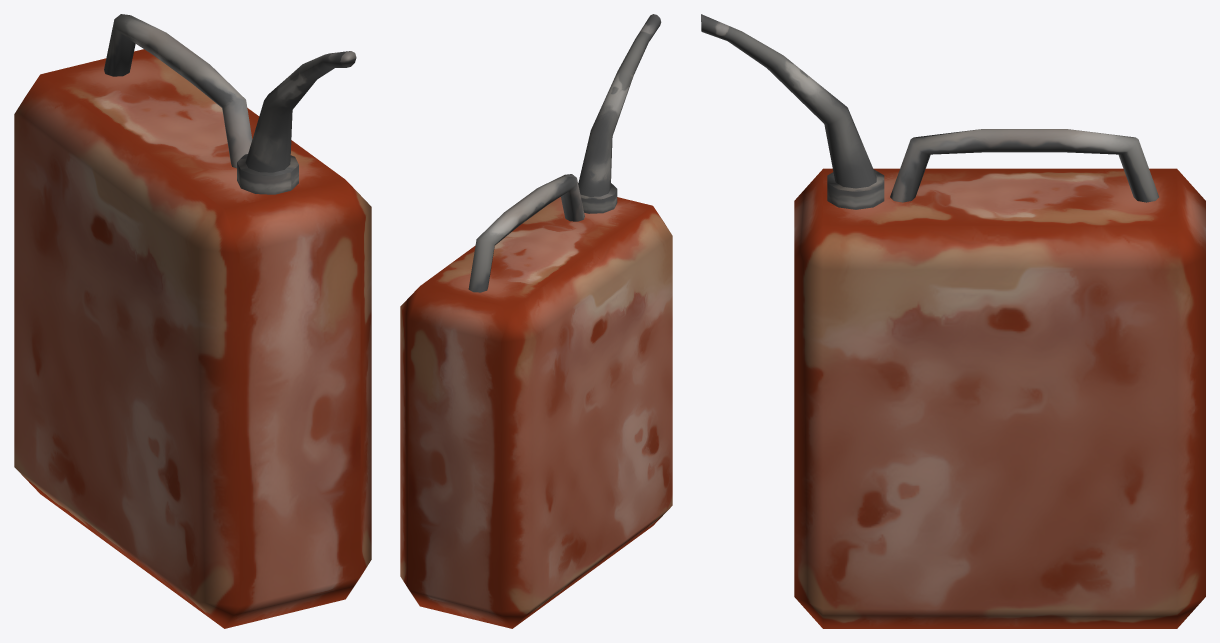
File: Tank.fbx
The picture shows the model from 3 angles, left to right: view 1: azimuth 30°, elevation 25°; view 2: azimuth 150°, elevation 25°; view 3: azimuth 270°, elevation 25°; orthographic projection. The views are drawn at different scales.
Parts seen in each view (by area): view 1: Tank; view 2: Tank; view 3: Tank.
Part boxes in pixels (x1=…): Tank: x1=14, y1=14, x2=371, y2=628; Tank: x1=400, y1=14, x2=672, y2=628; Tank: x1=701, y1=14, x2=1205, y2=628.
Bounding box in the file's own units: 230 × 773 × 604.
Materials: 1 (1 with a texture image).
